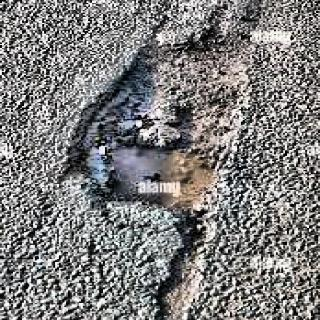pothole: (65, 32, 254, 216)
